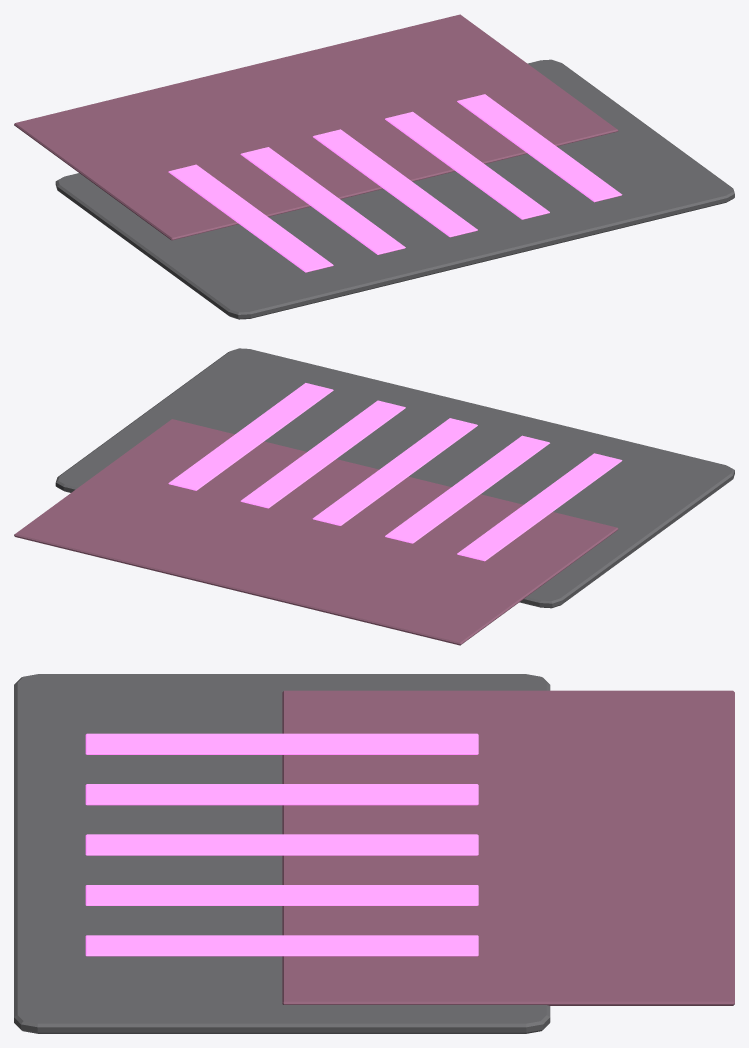
The model's file is cyberpunk-apartment-and-neon-block-floor-mat-b166a62c__37820.glb.
3 renders of one model, top to bottom at view 1: azimuth 30°, elevation 25°; view 2: azimuth 150°, elevation 25°; view 3: azimuth 270°, elevation 25°, orthographic. The views are drawn at different scales.
Parts seen in each view (by area): view 1: floor-mat; view 2: floor-mat; view 3: floor-mat.
Boxes of the visible parts, bbox=[...] form: floor-mat: bbox=[14, 14, 734, 319]; floor-mat: bbox=[14, 348, 734, 645]; floor-mat: bbox=[14, 674, 734, 1033].
Bounding box in the file's own units: 1.4 × 0.027 × 1.21.
